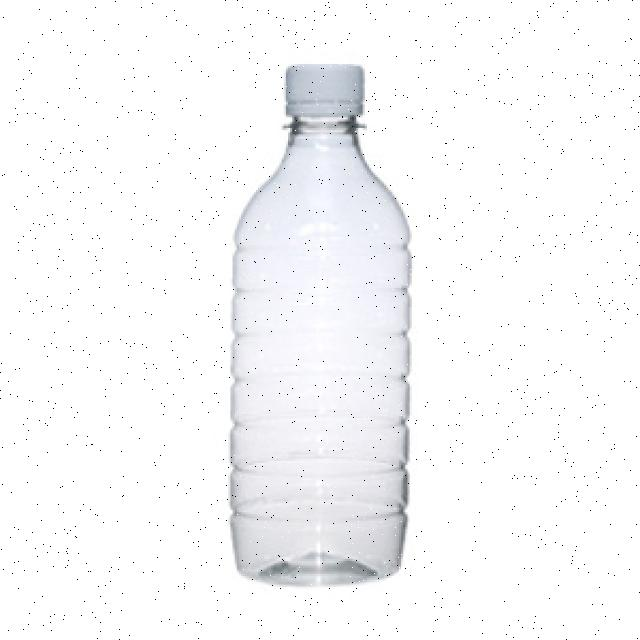plastic: (188, 52, 481, 598)
